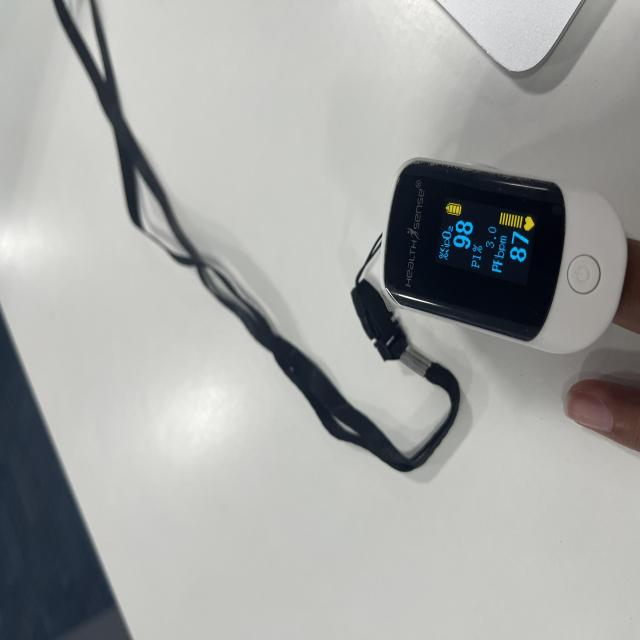spo2: (380, 160, 630, 357)
